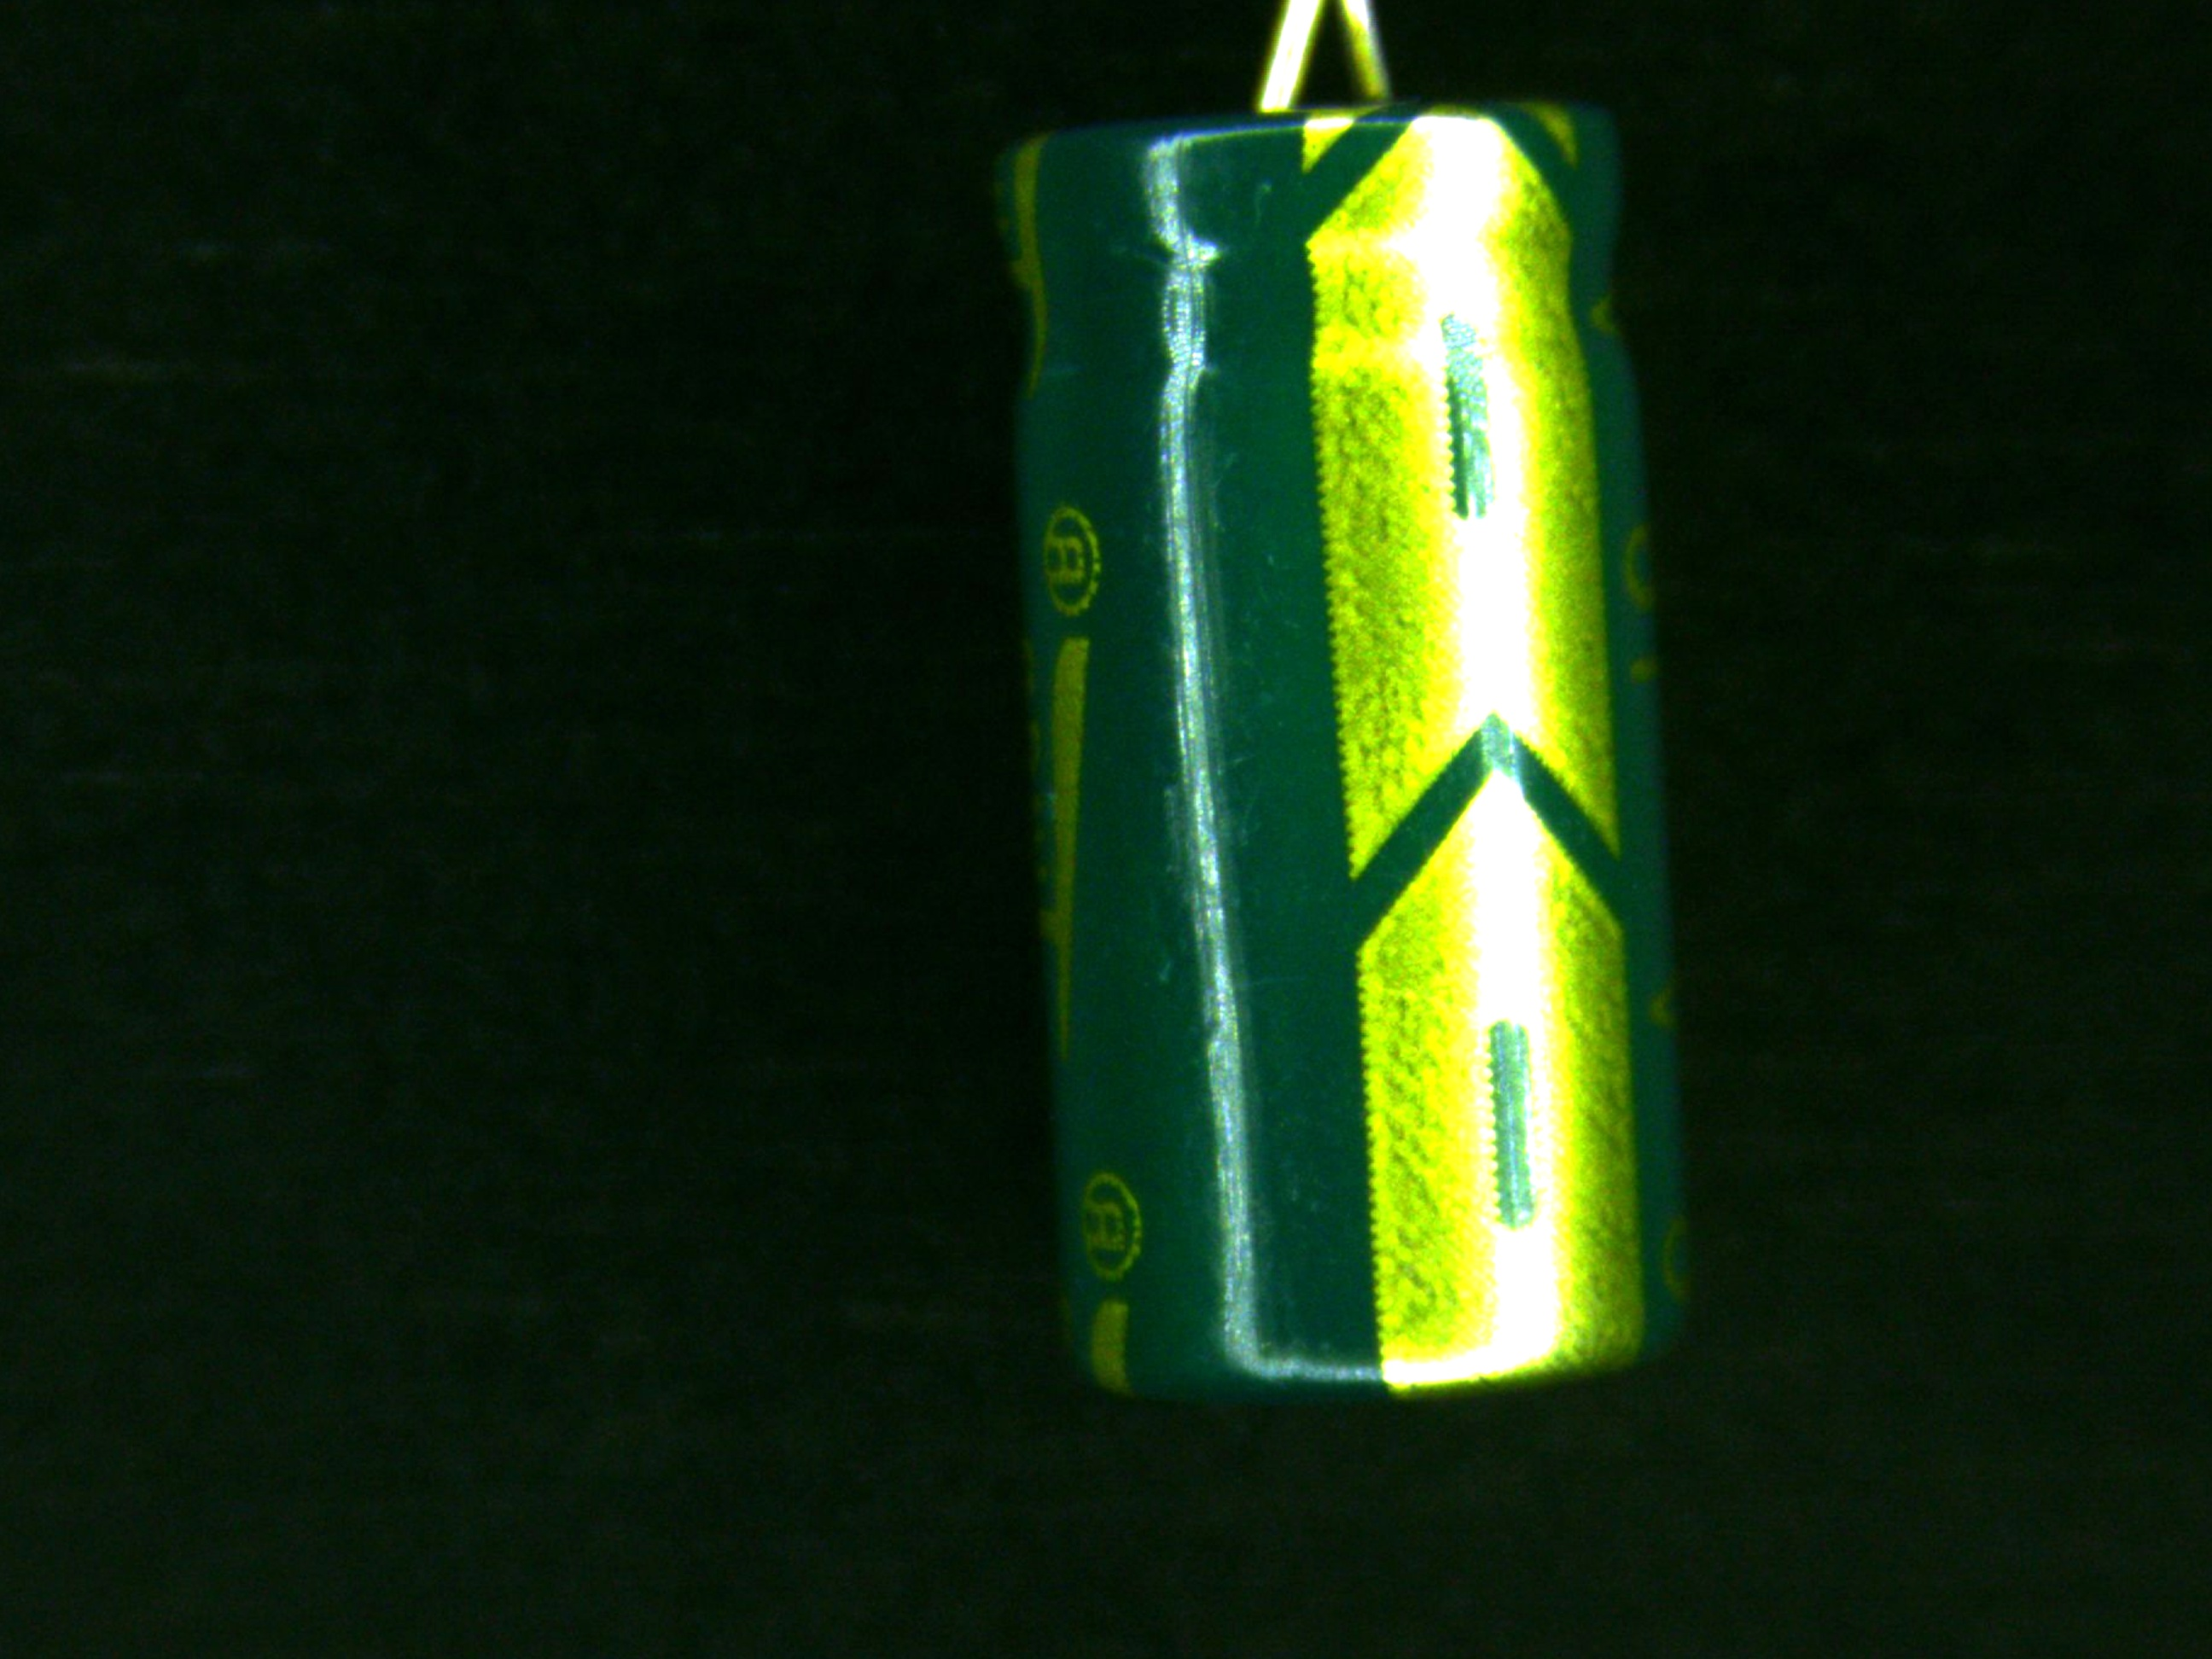c1: (989, 0, 1696, 1403)
